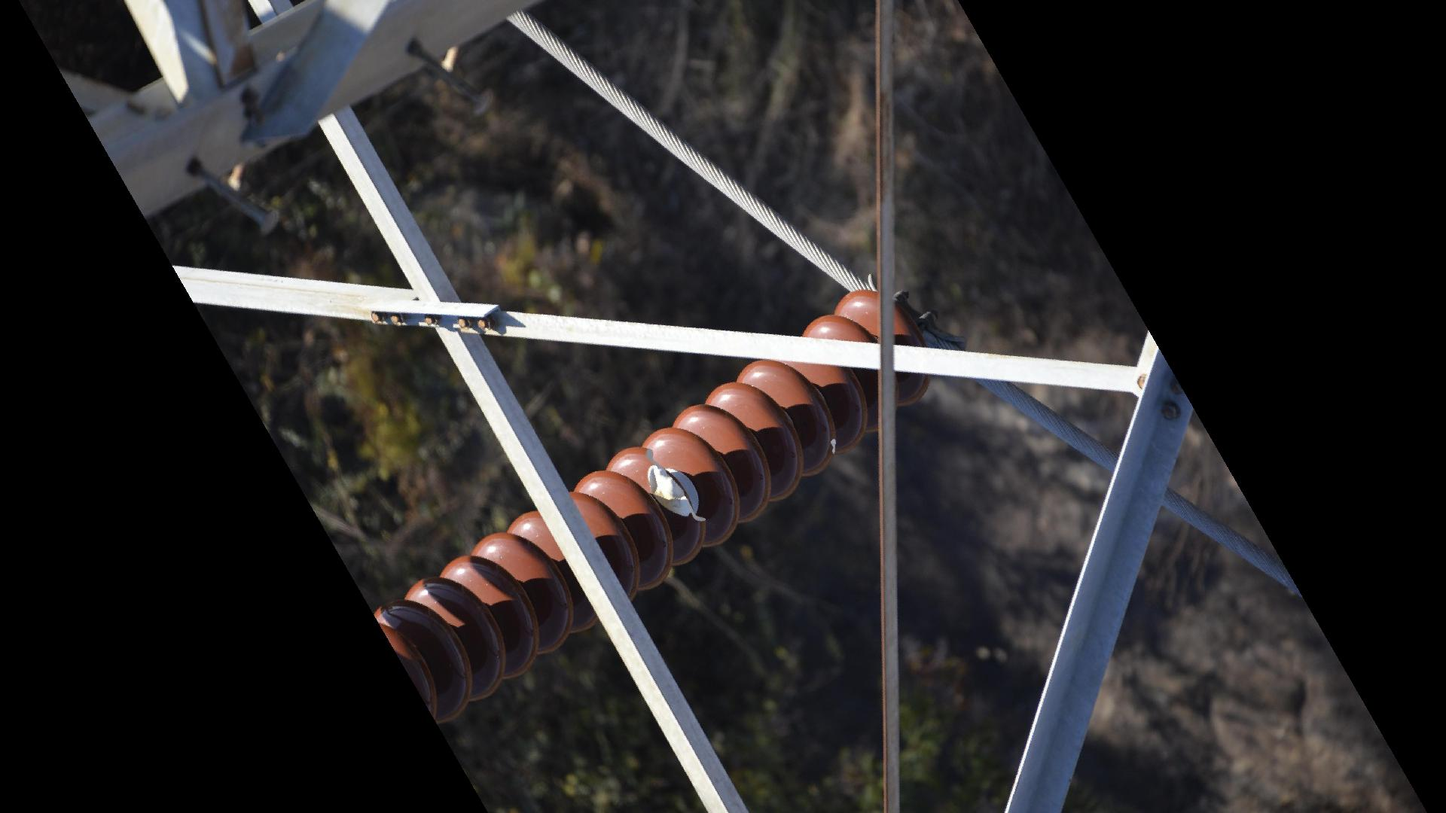insulator: (368, 282, 946, 733)
insulator_breakage: (637, 442, 714, 533)
